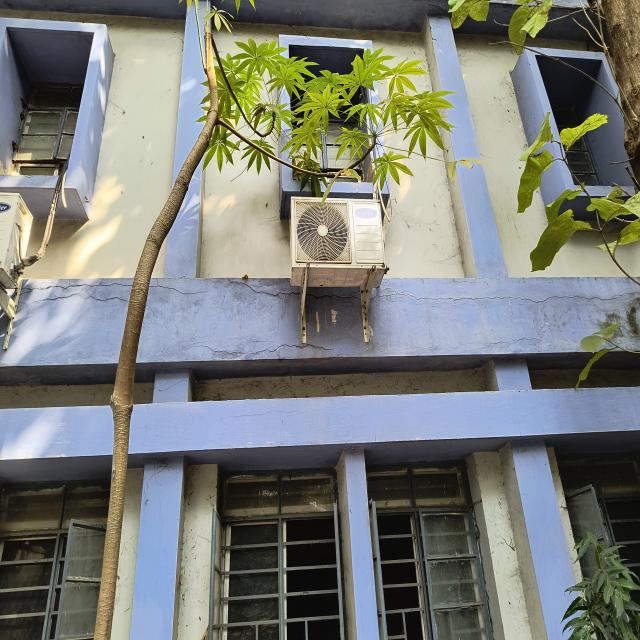crack: (373, 292, 635, 306), (187, 340, 336, 357), (19, 281, 133, 299), (226, 279, 300, 299), (27, 291, 129, 305), (306, 289, 362, 304), (150, 284, 209, 296)
